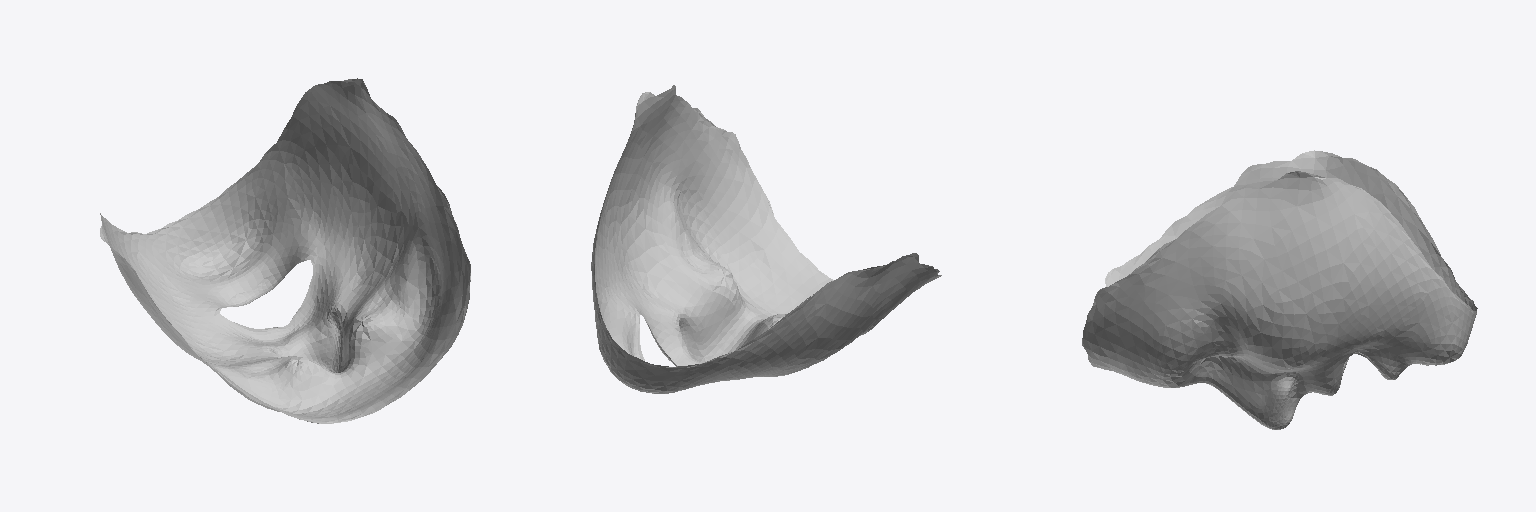
File: face_gab_sfm83.obj
3 views of the same model, side by side, from view 1: azimuth 30°, elevation 25°; view 2: azimuth 150°, elevation 25°; view 3: azimuth 270°, elevation 25° (orthographic).
Size of the model in its own units: 166 by 163 by 206.